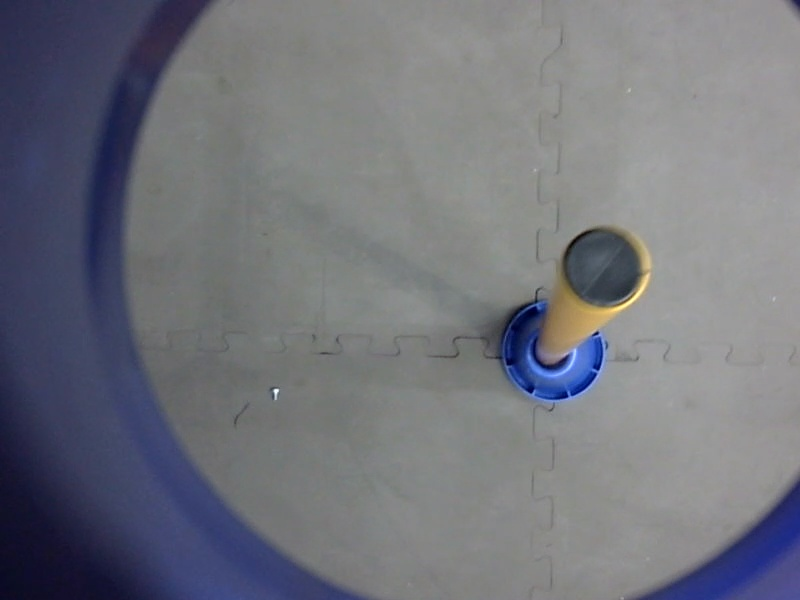tip: (553, 220, 658, 320)
